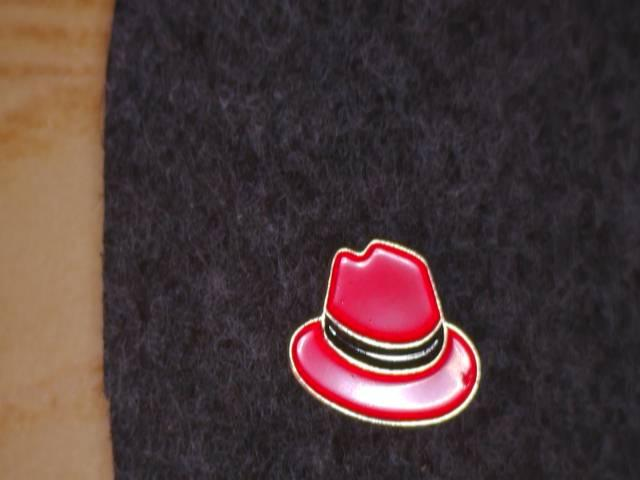Red-Hat: (273, 224, 513, 441)
